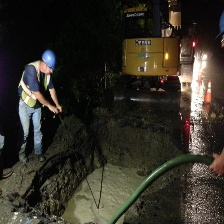helmet: (38, 51, 55, 77)
person: (15, 48, 64, 165)
